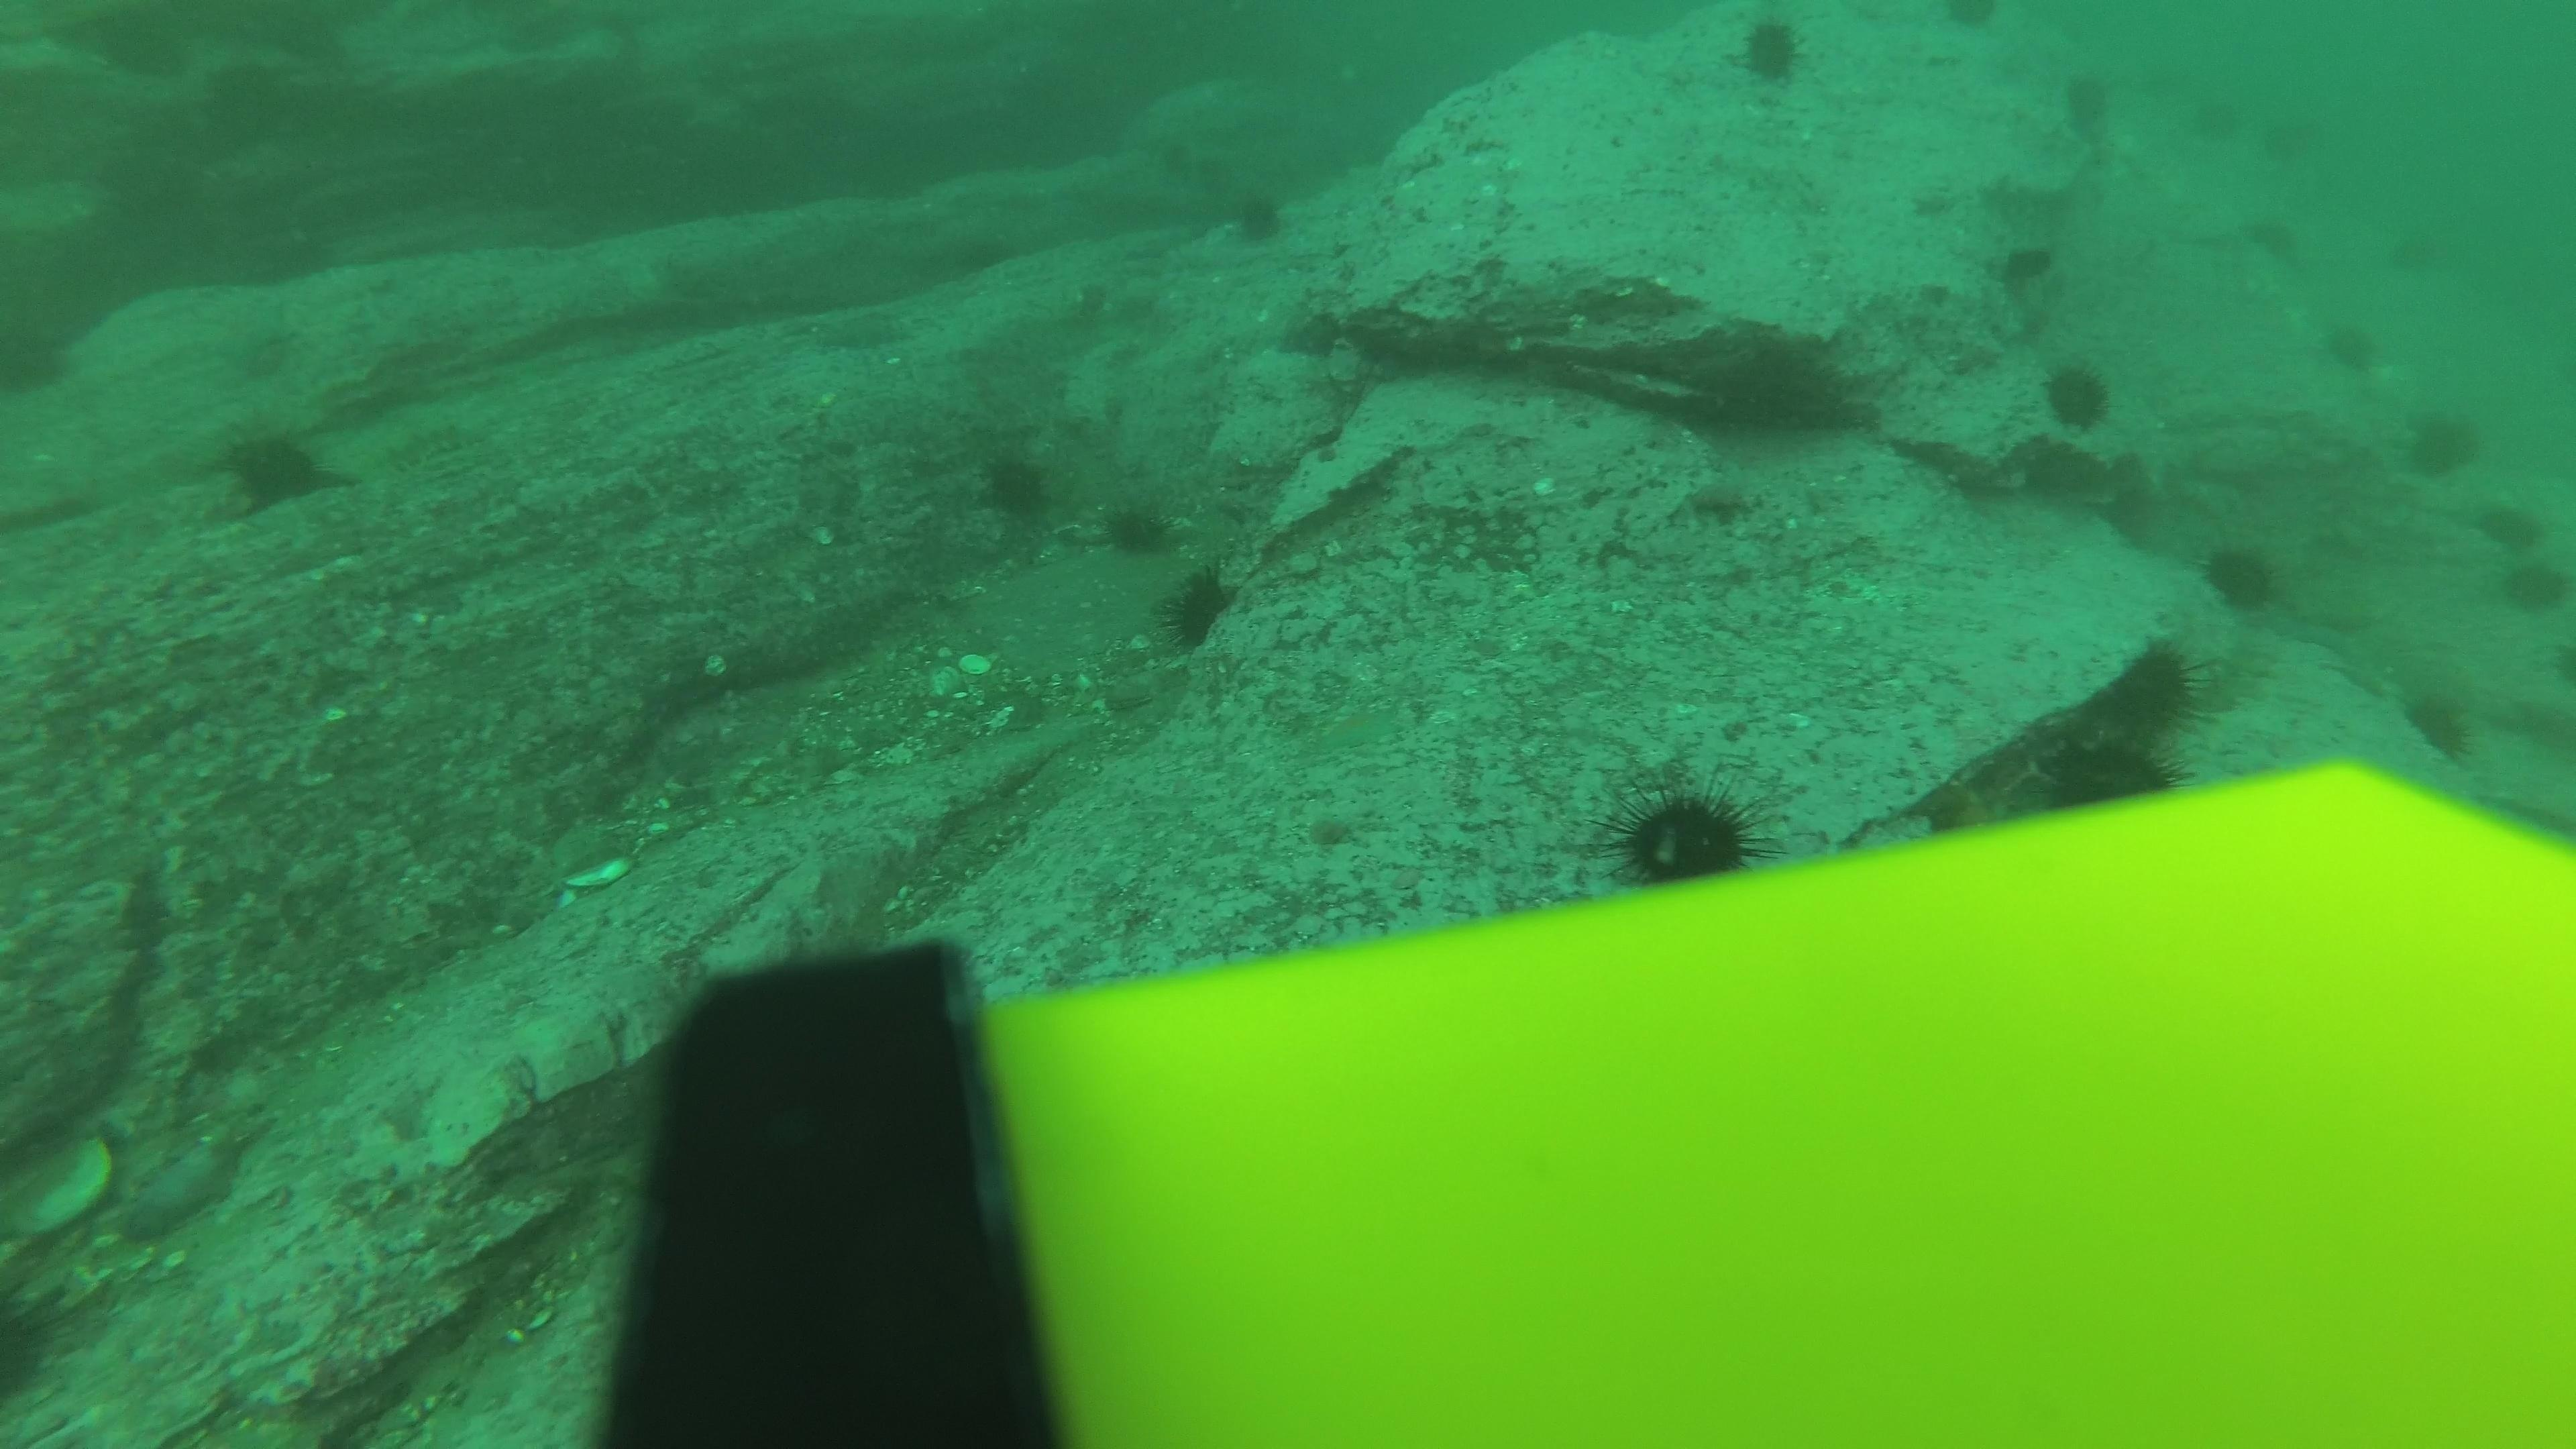echinus: (1606, 777, 1766, 888), (2072, 635, 2208, 752), (2029, 725, 2185, 814), (214, 419, 338, 517), (1154, 563, 1242, 655), (2194, 534, 2288, 616), (971, 442, 1060, 525), (2036, 354, 2118, 435), (1727, 12, 1813, 88), (2397, 683, 2479, 763), (2401, 403, 2484, 481), (1099, 494, 1177, 561), (2495, 550, 2572, 617), (2054, 65, 2118, 140), (2233, 205, 2296, 280), (1221, 184, 1293, 248), (2378, 216, 2440, 290), (2250, 104, 2312, 179), (2183, 73, 2245, 147), (2318, 313, 2383, 377), (1992, 235, 2059, 295), (1927, 0, 1999, 53)
starfish: (106, 1118, 248, 1242), (810, 301, 911, 357)
